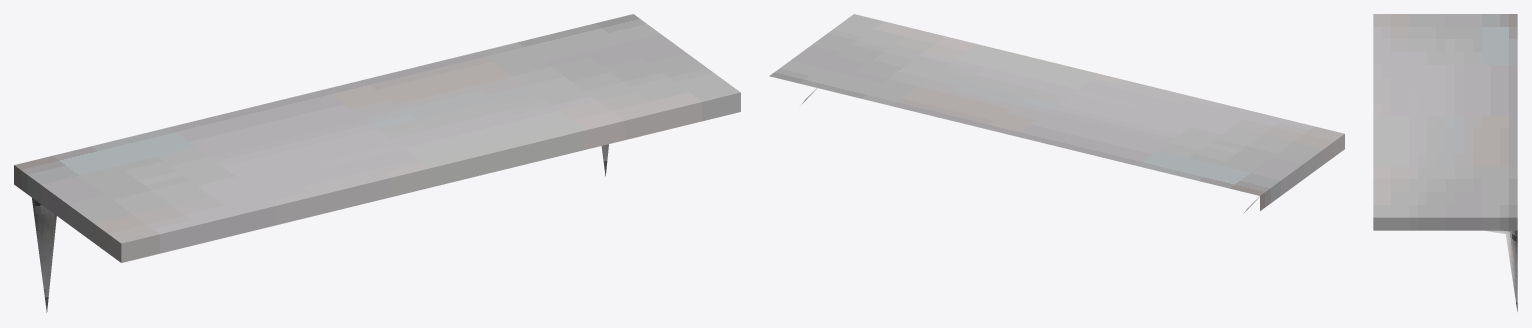
The model's file is Shelf02.glb.
The picture shows the model from 3 angles, left to right: view 1: azimuth 30°, elevation 25°; view 2: azimuth 150°, elevation 25°; view 3: azimuth 270°, elevation 25°; orthographic projection. The views are drawn at different scales.
Parts seen in each view (by area): view 1: SHELF02; view 2: SHELF02; view 3: SHELF02.
Boxes of the visible parts, x1,y1,x2,y2 form: SHELF02: (14, 14, 740, 312); SHELF02: (769, 14, 1344, 213); SHELF02: (1373, 14, 1517, 311).
Size of the model in its own units: 1 by 0.242 by 0.3.
1 material, 1 textured.
